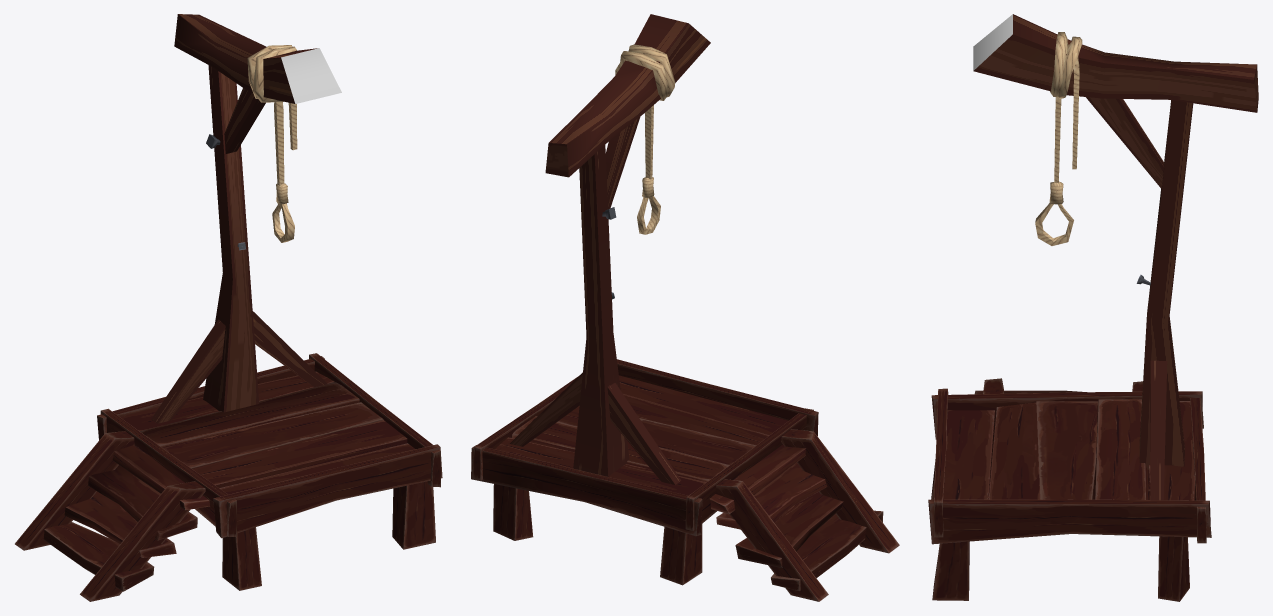
File: SM_PROP_gallows.fbx
The picture shows the model from 3 angles, left to right: view 1: azimuth 30°, elevation 25°; view 2: azimuth 150°, elevation 25°; view 3: azimuth 270°, elevation 25°; orthographic projection. The views are drawn at different scales.
Parts seen in each view (by area): view 1: SM_PROP_gallows; view 2: SM_PROP_gallows; view 3: SM_PROP_gallows.
Boxes of the visible parts, x1,y1,x2,y2 form: SM_PROP_gallows: [15, 14, 442, 601]; SM_PROP_gallows: [471, 14, 899, 601]; SM_PROP_gallows: [928, 14, 1258, 601].
Bounding box in the file's own units: 390 × 545 × 310.
